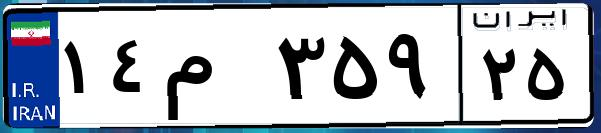1: (57, 26, 110, 100)
2: (475, 38, 525, 113)
3: (270, 28, 330, 110)
4: (110, 28, 158, 98)
5: (330, 28, 385, 110), (525, 38, 570, 115)
9: (385, 28, 445, 110)
م: (158, 20, 270, 120)
